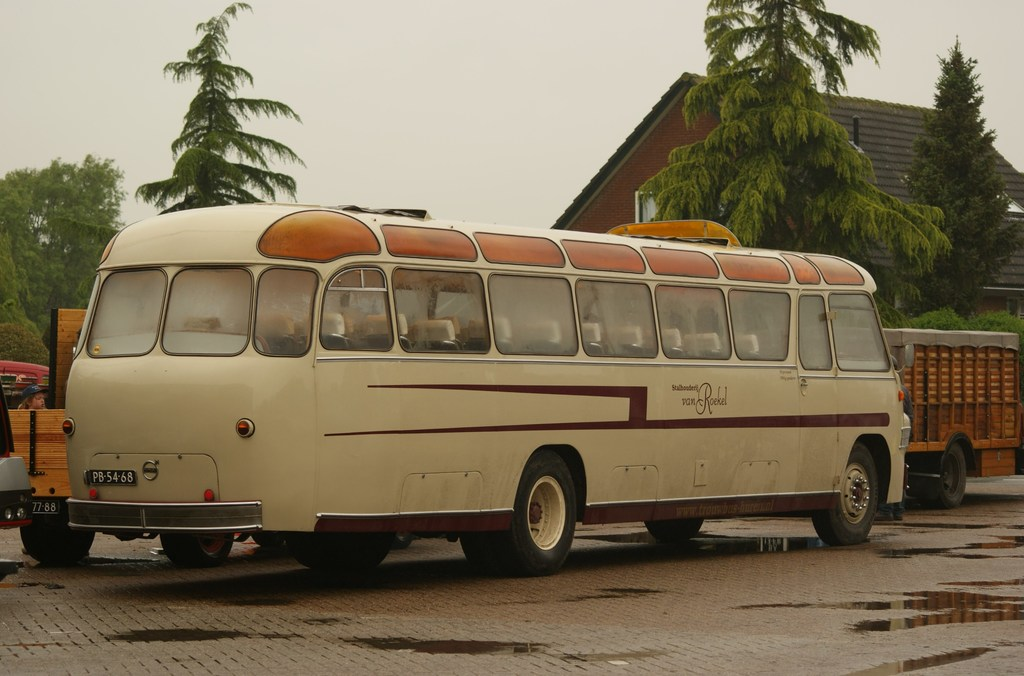Bus: (61, 201, 911, 576)
